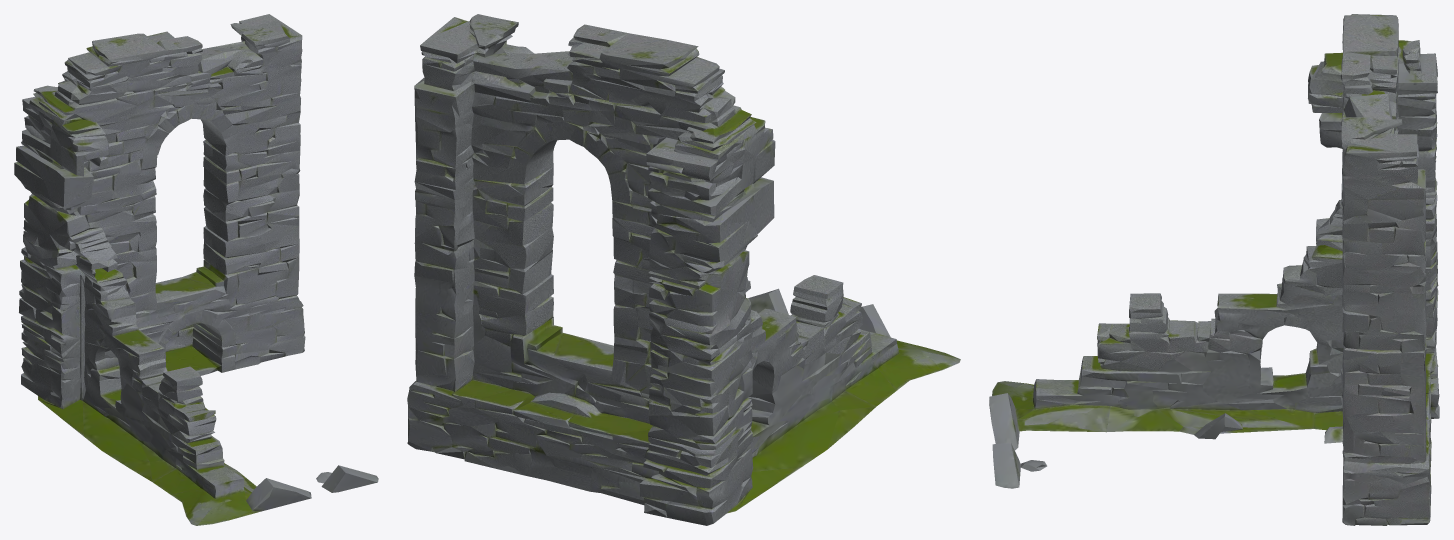
Rendered from castle.glb.
The picture shows the model from 3 angles, left to right: view 1: azimuth 30°, elevation 25°; view 2: azimuth 150°, elevation 25°; view 3: azimuth 270°, elevation 25°; orthographic projection. The views are drawn at different scales.
Bounding box in the file's own units: 1.48 × 1.87 × 1.89.
Materials: 1 (1 with a texture image).
